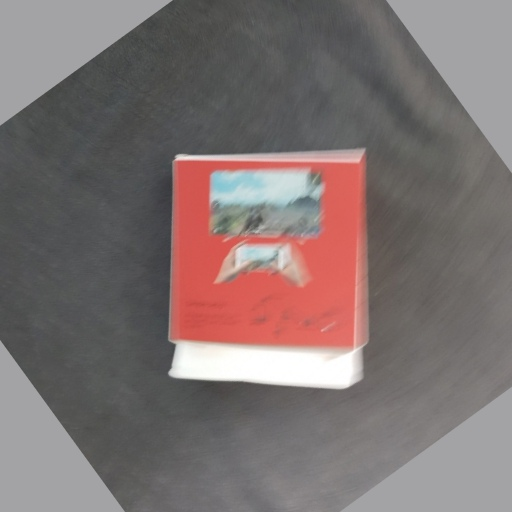Paper_0: (159, 143, 374, 396)
